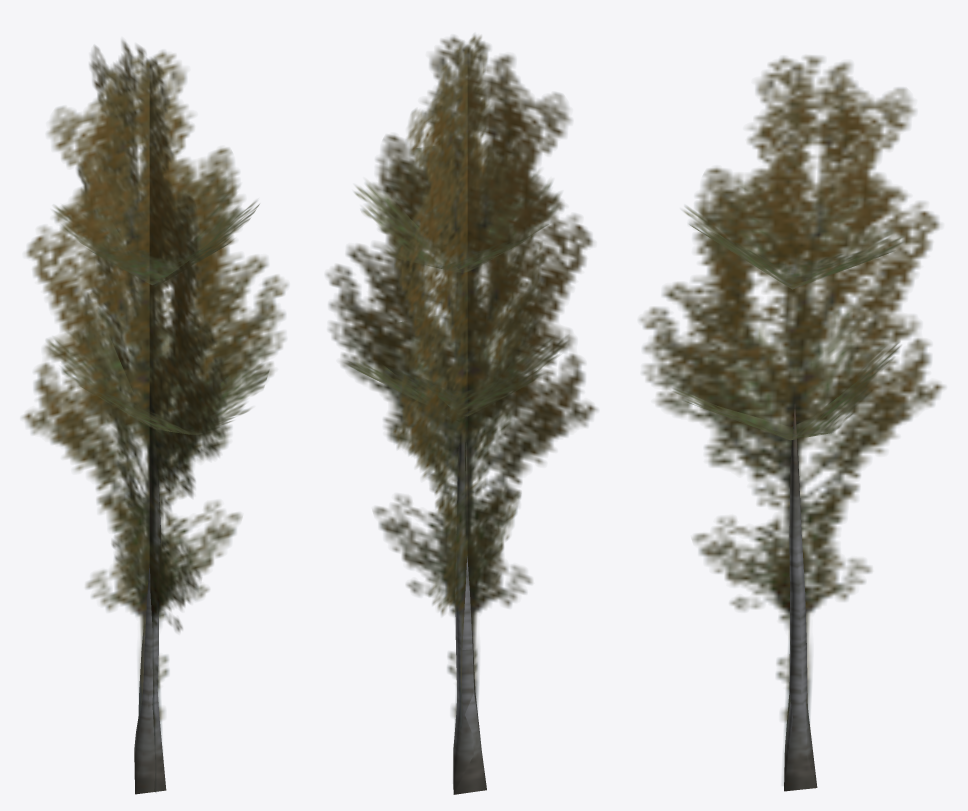
The model's file is forest_tree_1.glb.
The picture shows the model from 3 angles, left to right: view 1: azimuth 30°, elevation 25°; view 2: azimuth 150°, elevation 25°; view 3: azimuth 270°, elevation 25°; orthographic projection. The views are drawn at different scales.
Visible parts, largest first — view 1: Background_Tree_Atlas.001_Background_Tree_Atlas_0; view 2: Background_Tree_Atlas.001_Background_Tree_Atlas_0; view 3: Background_Tree_Atlas.001_Background_Tree_Atlas_0.
Boxes of the visible parts, x1,y1,x2,y2 form: Background_Tree_Atlas.001_Background_Tree_Atlas_0: (22,40,288,794); Background_Tree_Atlas.001_Background_Tree_Atlas_0: (326,34,597,794); Background_Tree_Atlas.001_Background_Tree_Atlas_0: (639,55,944,791).
Bounding box in the file's own units: 5.7 × 14.63 × 5.7.
Materials: 1 (1 with a texture image).
